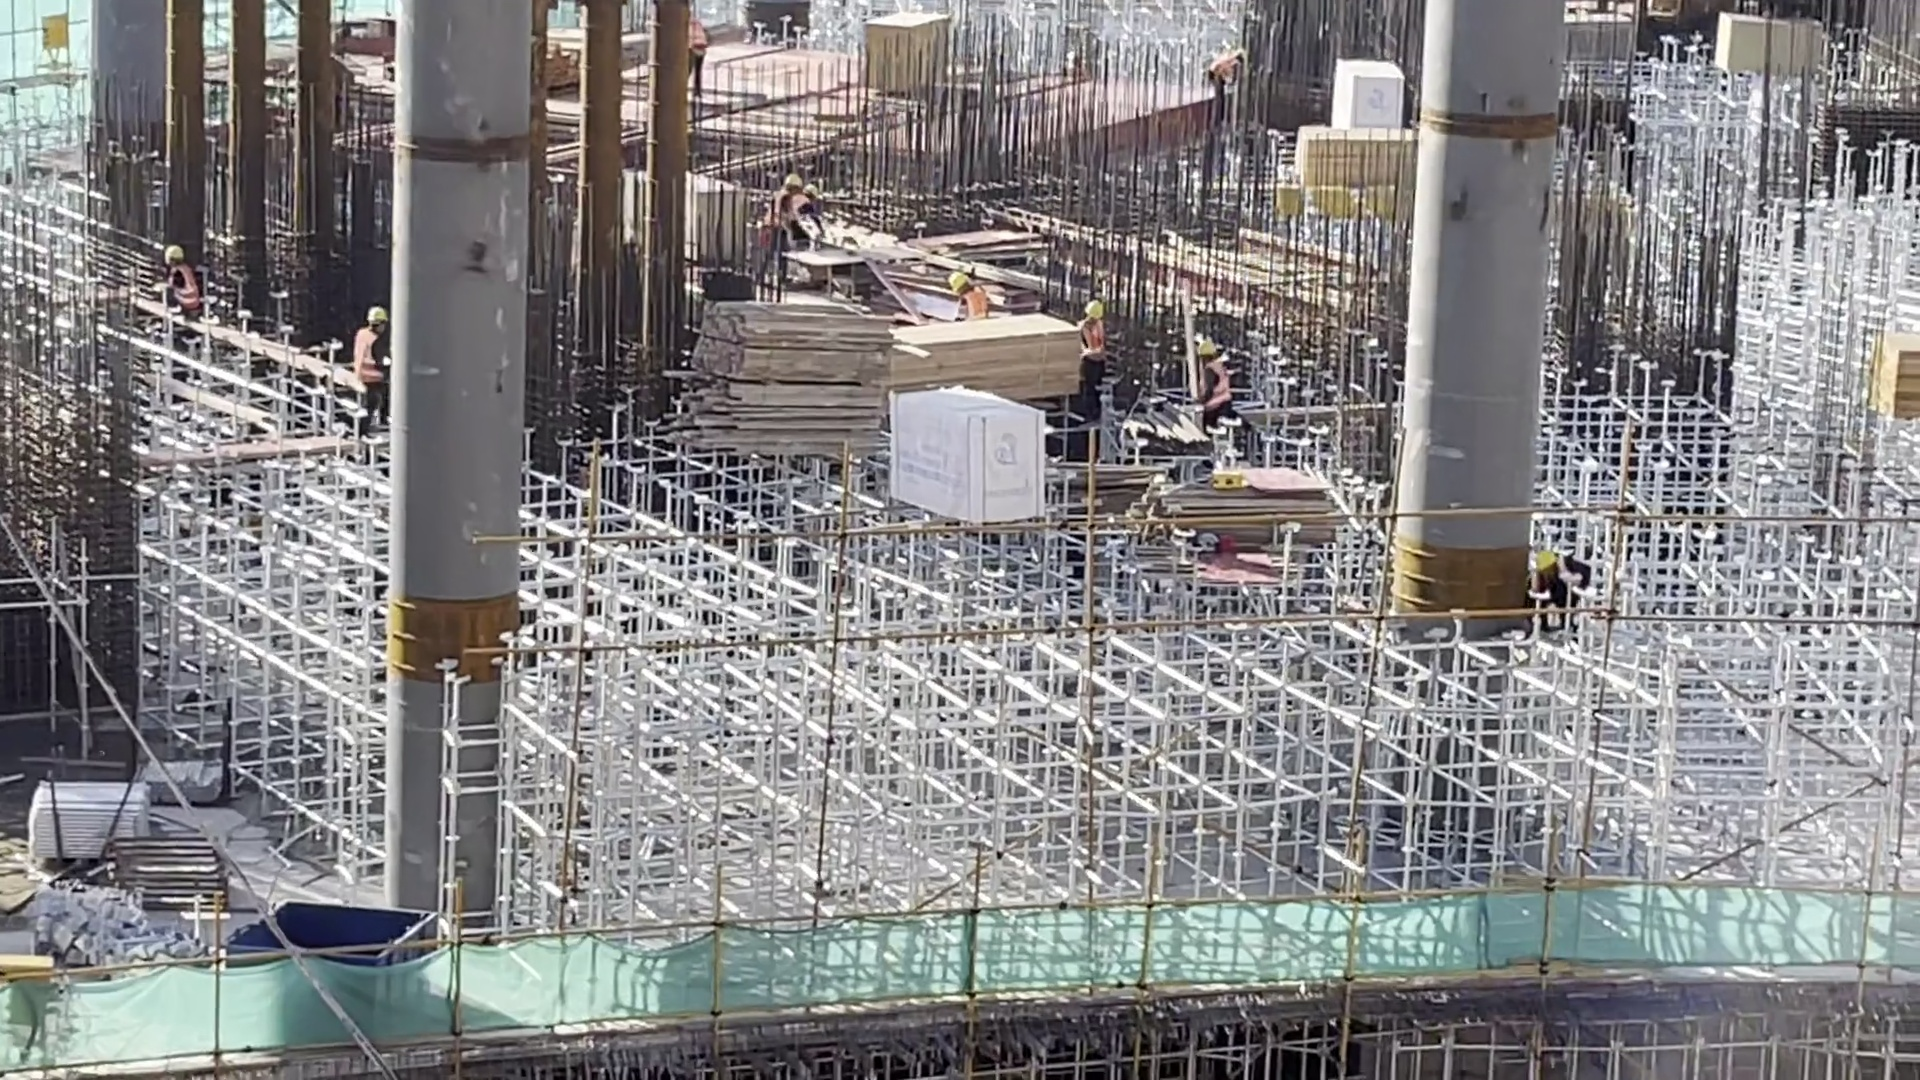board: (1151, 464, 1338, 554)
cutter: (786, 235, 925, 311)
ebox: (33, 13, 76, 75)
helmet: (155, 241, 191, 264), (363, 306, 394, 329), (1533, 550, 1560, 570), (1085, 297, 1106, 318), (947, 270, 965, 292), (164, 243, 185, 260), (1196, 341, 1217, 355), (785, 171, 801, 187)
hopper: (230, 887, 446, 968)
person: (344, 305, 393, 440), (1531, 546, 1594, 636), (758, 170, 801, 279), (153, 248, 202, 336), (1081, 296, 1108, 423), (1193, 340, 1230, 429), (679, 9, 710, 105), (947, 271, 988, 318)
vest: (348, 334, 384, 392), (1196, 364, 1232, 416), (762, 189, 792, 237), (168, 265, 201, 310), (1083, 316, 1105, 364), (959, 294, 992, 322)
wood: (682, 305, 885, 469), (882, 313, 1088, 416), (1280, 134, 1423, 209), (860, 5, 956, 86)
